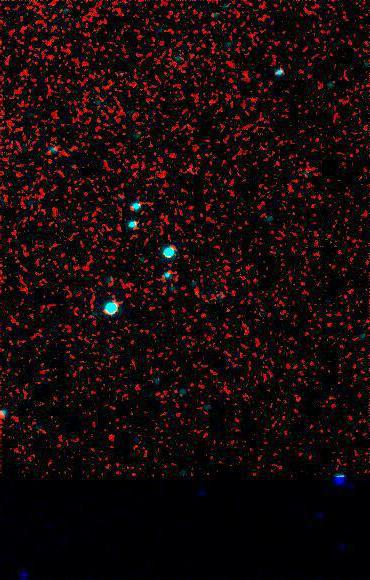star: (182, 276, 212, 306)
